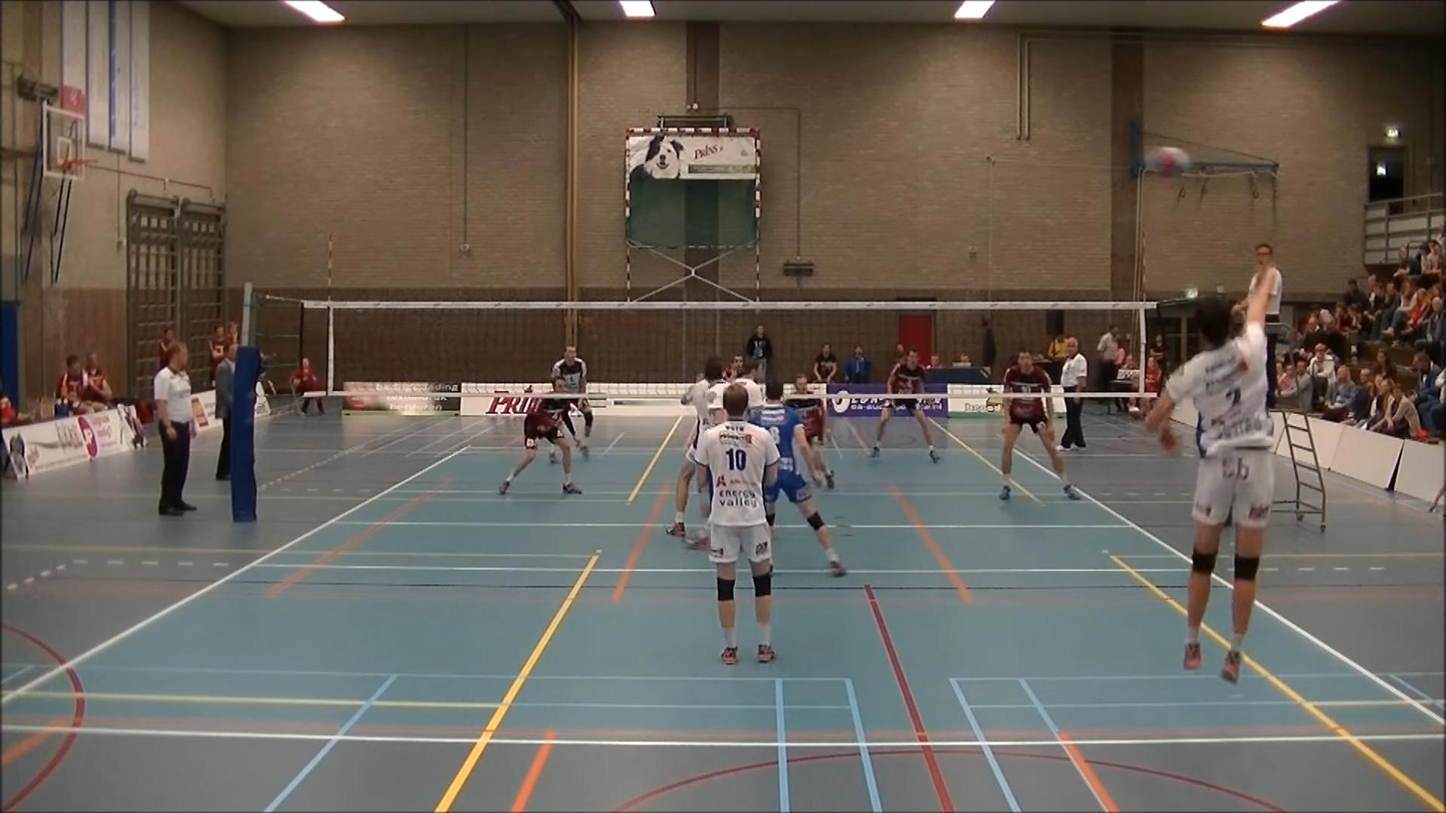Player: (695, 385, 779, 664), (750, 381, 846, 576), (1000, 352, 1080, 500), (667, 357, 727, 537), (498, 397, 581, 494), (783, 375, 834, 489), (871, 398, 939, 462), (734, 360, 765, 419), (563, 398, 593, 456)
Serve: (1144, 260, 1281, 686)
ball: (1145, 144, 1190, 180)
